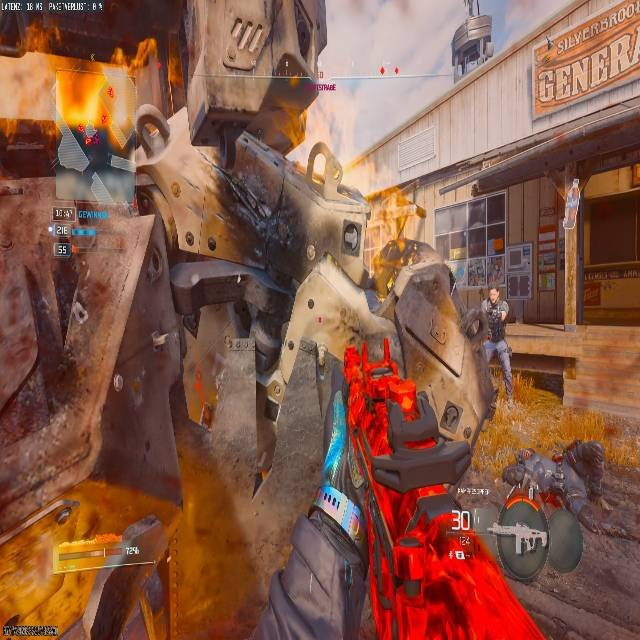head: (256, 53, 318, 147), (483, 288, 496, 306), (488, 287, 499, 304)
player: (261, 225, 534, 638), (264, 221, 398, 484), (462, 287, 515, 399)
